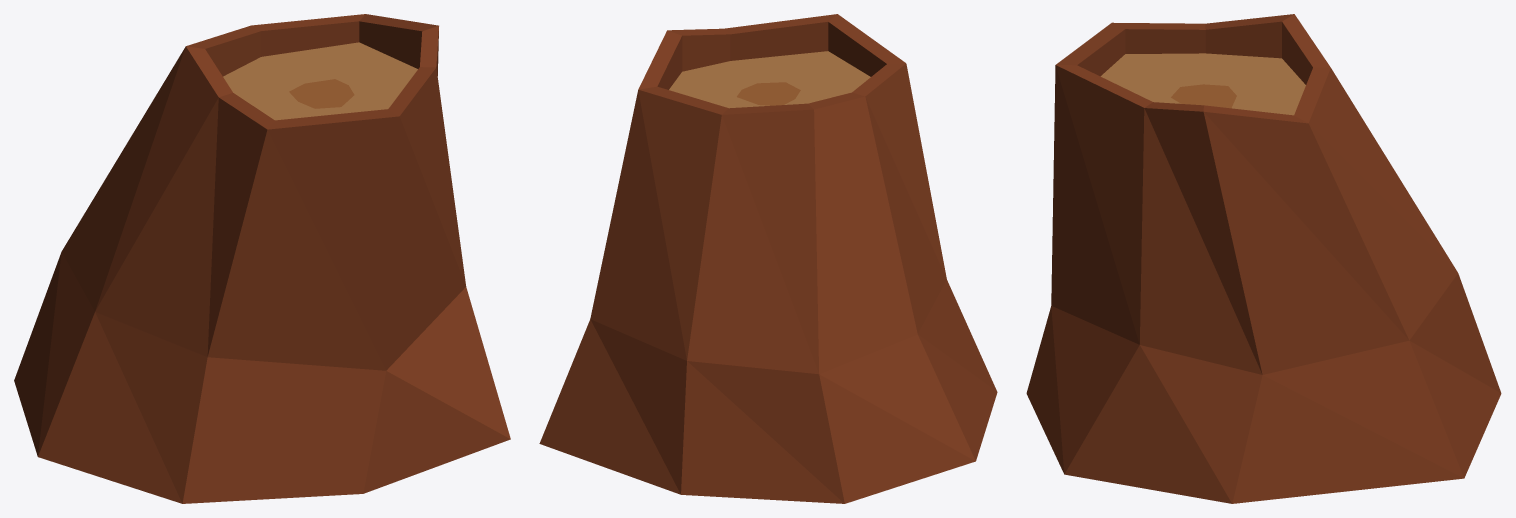
The model's file is Stump_2.fbx.
3 renders of one model, left to right at view 1: azimuth 30°, elevation 25°; view 2: azimuth 150°, elevation 25°; view 3: azimuth 270°, elevation 25°, orthographic. The views are drawn at different scales.
Parts seen in each view (by area): view 1: Stump.2; view 2: Stump.2; view 3: Stump.2.
Boxes of the visible parts, bbox=[...] form: Stump.2: bbox=[14, 14, 510, 503]; Stump.2: bbox=[539, 14, 997, 503]; Stump.2: bbox=[1026, 14, 1501, 503].
Size of the model in its own units: 95.11 by 76.14 by 90.58.
